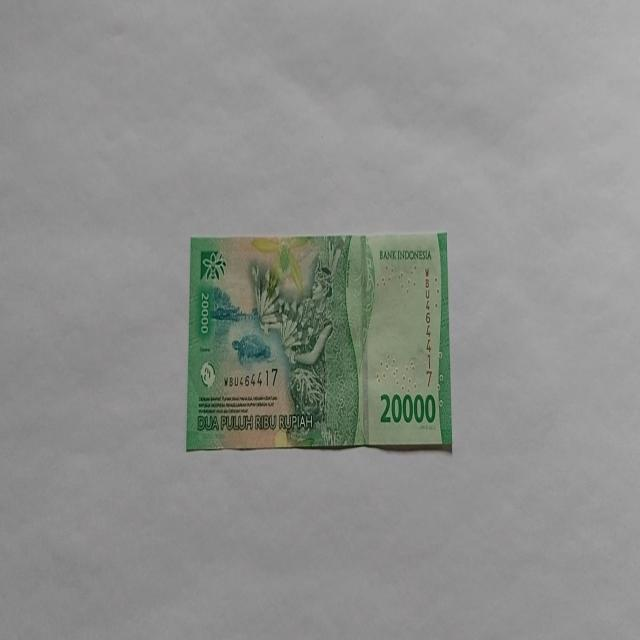dua puluh ribu rupiah: (185, 231, 452, 454)
